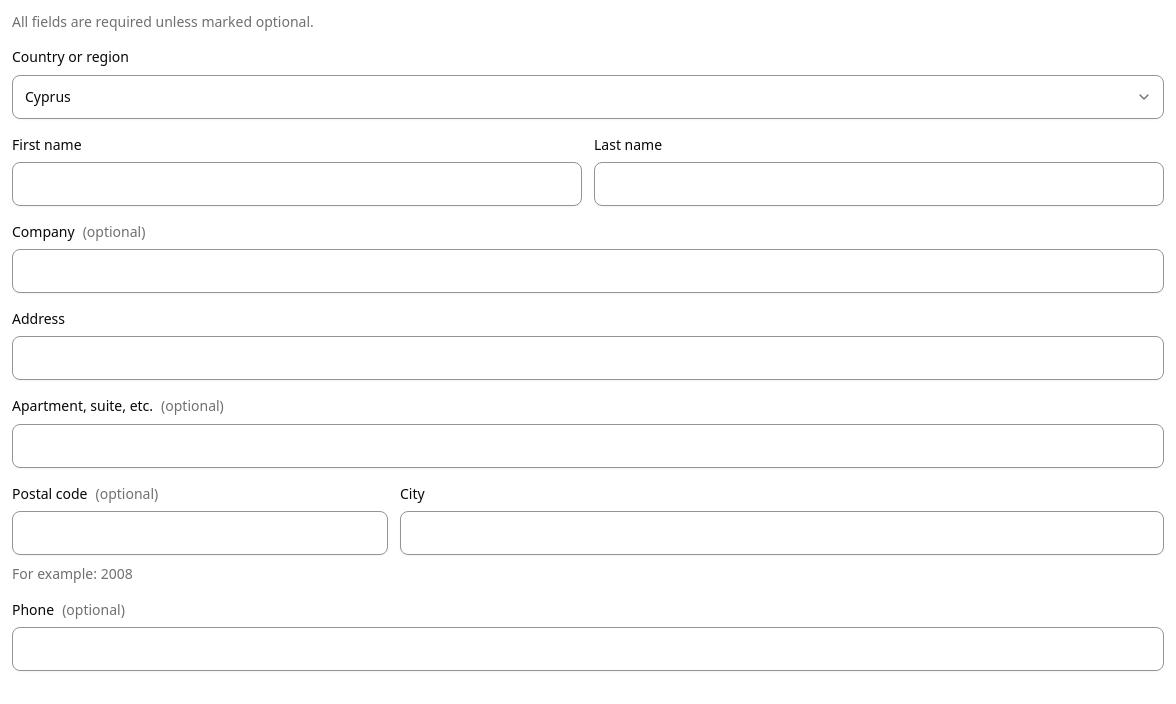
it: AddressForm › changing the country with JavaScript › swaps the fields to the new country's format at once, keeping what was typed
In the field labelled "First name": (297, 184) [12,162,582,206], type "Eleni"
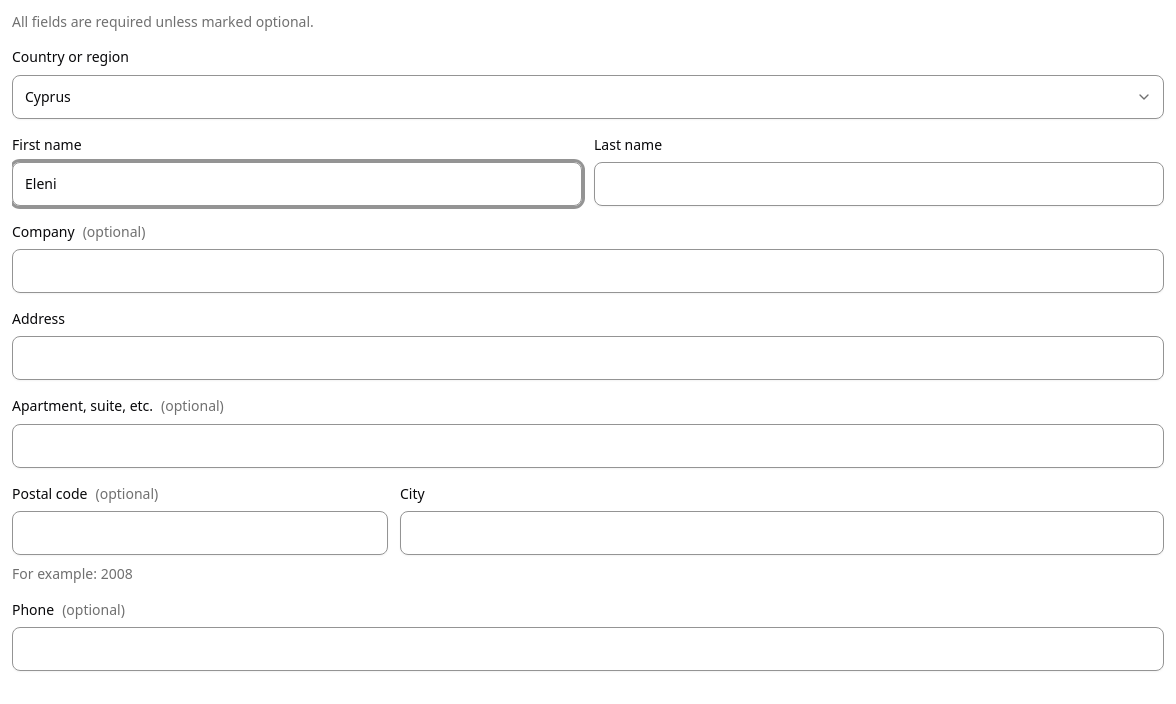
In the field labelled "Address": (588, 358) [12,336,1164,380], type "Makariou 45"
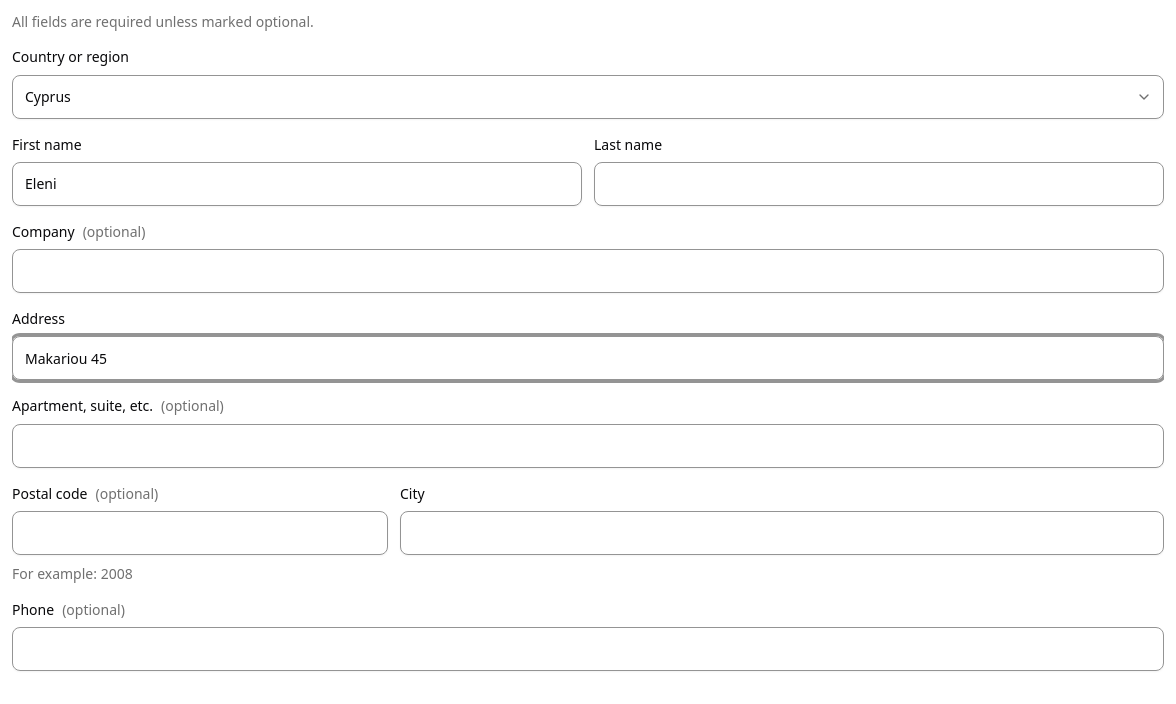
In the field labelled "City": (782, 533) [400,511,1164,555], type "Nicosia"
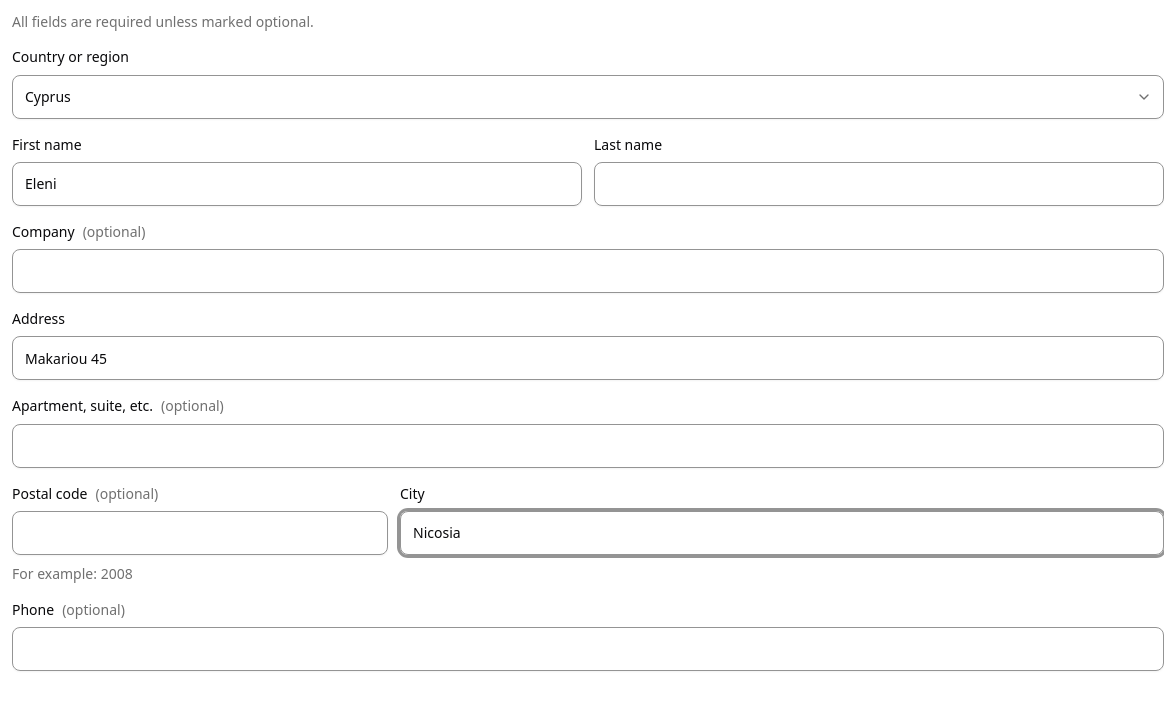
Select "United States" in the dropdown labelled "Country or region": (588, 96) [12,74,1164,118]
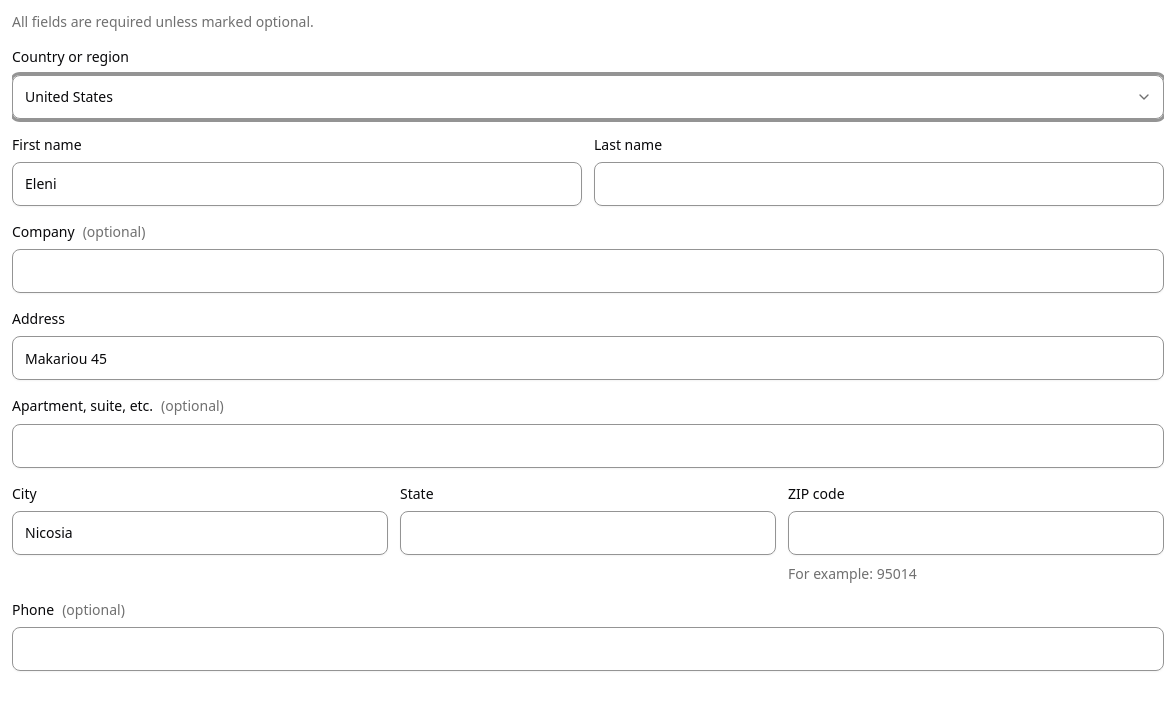
Expected: the label "State" is shown, [400,484,434,502]
Expected: the label "ZIP code" is shown, [788,484,845,502]
